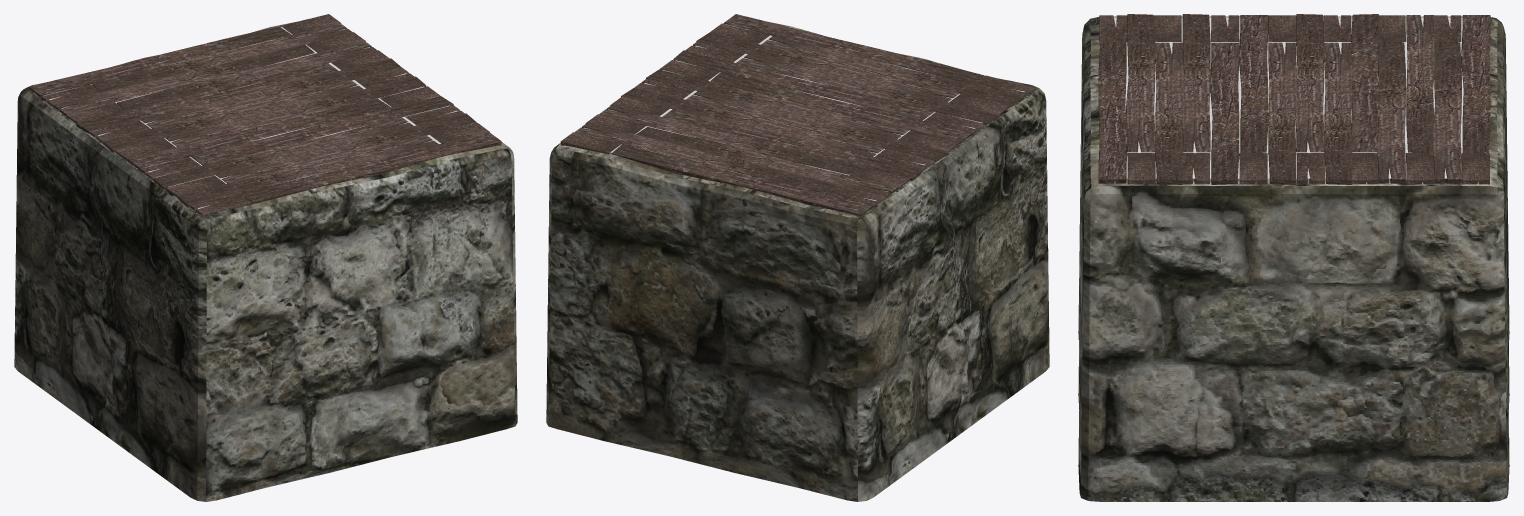
File: foundation.FBX
3 views of the same model, side by side, from view 1: azimuth 30°, elevation 25°; view 2: azimuth 150°, elevation 25°; view 3: azimuth 270°, elevation 25° (orthographic). The views are drawn at different scales.
Visible parts, largest first — view 1: rock-wall-low002, Box294, Box299, Box289, Box297, Box288, Box293, Box290, Box292, Box287, Box286, Box291 (+18 smaller); view 2: rock-wall-low002, Box299, Box289, Box290, Box291, Box298, Box287, Box293, Box296, Box294, Box288, Box297 (+18 smaller); view 3: rock-wall-low002, Box290, Box294, Box288, Box292, Box298, Box286, Box299, Box293, Box287, Box289, Box296 (+18 smaller).
Boxes of the visible parts, x1,y1,x2,y2 form: rock-wall-low002: (14, 21, 517, 501); Box294: (239, 132, 501, 204); Box299: (28, 26, 291, 97); Box289: (127, 98, 390, 169); Box297: (54, 44, 314, 115); Box288: (165, 76, 426, 146); Box293: (177, 135, 438, 207); Box290: (190, 96, 453, 165); Box292: (216, 113, 476, 183); Box287: (102, 80, 363, 152); Box286: (141, 58, 401, 128); Box291: (153, 117, 413, 189); rock-wall-low002: (546, 22, 1049, 501); Box299: (611, 144, 872, 216); Box289: (711, 72, 971, 143); Box290: (673, 50, 933, 120); Box291: (736, 53, 999, 124); Box298: (574, 123, 836, 192); Box287: (686, 90, 948, 161); Box293: (761, 35, 1023, 106); Box296: (599, 105, 861, 174); Box294: (723, 14, 984, 84); Box288: (646, 69, 908, 138); Box297: (635, 127, 897, 197); rock-wall-low002: (1078, 16, 1509, 501); Box290: (1210, 42, 1239, 184); Box294: (1098, 41, 1127, 183); Box288: (1268, 42, 1297, 184); Box292: (1155, 42, 1184, 184); Box298: (1433, 41, 1461, 183); Box286: (1324, 42, 1352, 184); Box299: (1461, 15, 1490, 152); Box293: (1126, 14, 1155, 152); Box287: (1295, 14, 1324, 152); Box289: (1239, 15, 1268, 152); Box296: (1377, 41, 1405, 183).
Size of what is drawn, in the model's own units: 24.2 by 20.06 by 24.81.
